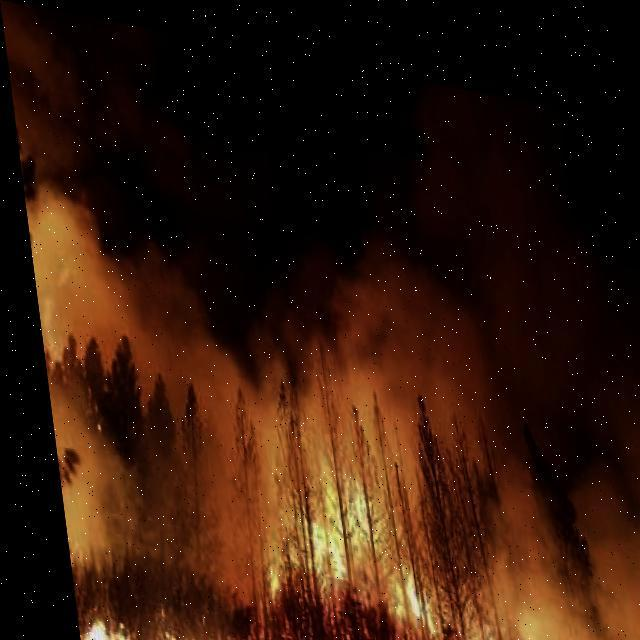Fire: (249, 452, 514, 639)
